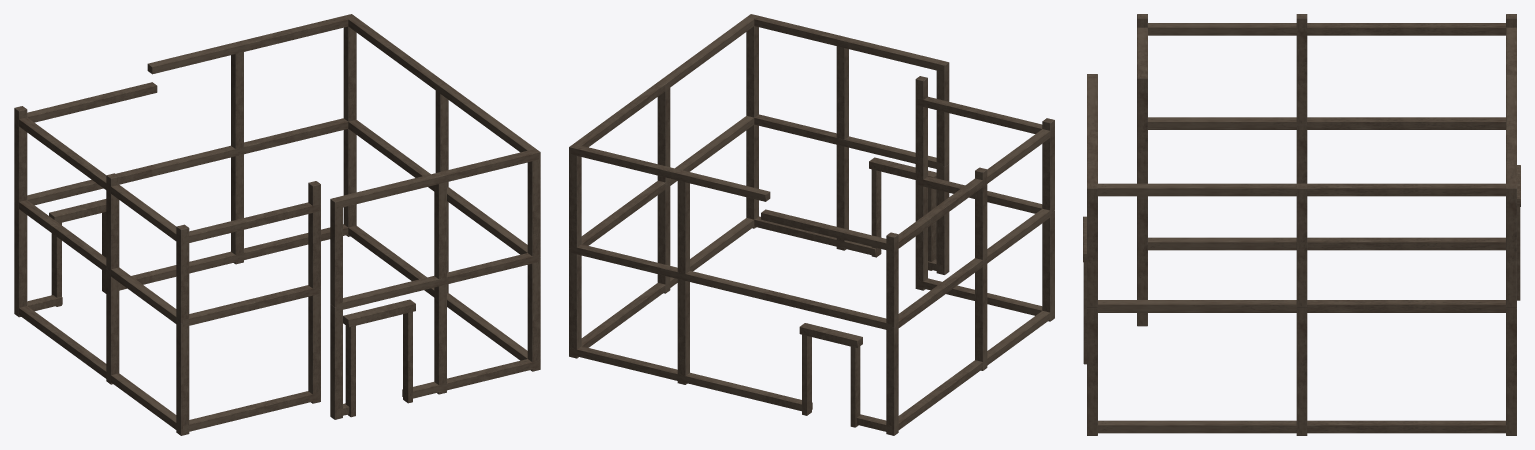
The model's file is BW_Inn01_Timber.fbx.
The picture shows the model from 3 angles, left to right: view 1: azimuth 30°, elevation 25°; view 2: azimuth 150°, elevation 25°; view 3: azimuth 270°, elevation 25°; orthographic projection. The views are drawn at different scales.
Parts seen in each view (by area): view 1: BW_Inn01_Timber; view 2: BW_Inn01_Timber; view 3: BW_Inn01_Timber.
Part boxes in pixels (<box>): BW_Inn01_Timber: <box>14,14,540,435</box>; BW_Inn01_Timber: <box>569,14,1054,435</box>; BW_Inn01_Timber: <box>1083,14,1520,435</box>.
Size of the model in its own units: 9.74 by 6 by 9.61.
